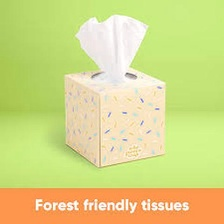book: (59, 61, 171, 172)
tissue: (69, 10, 152, 85)
